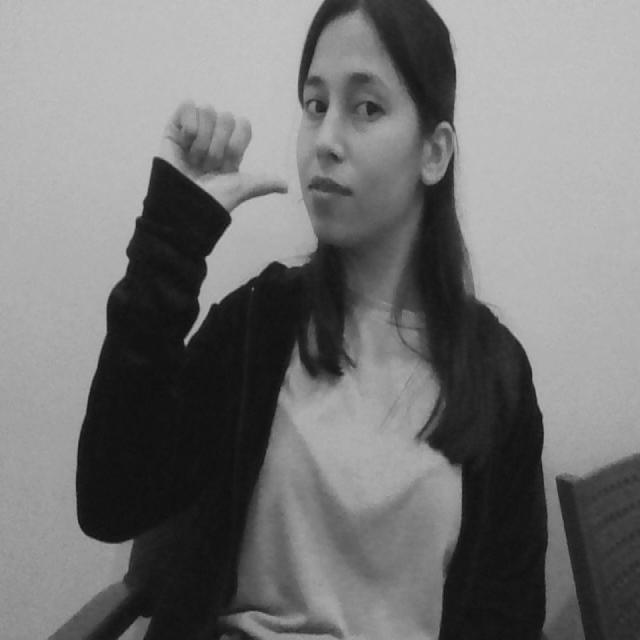icmek: (140, 91, 328, 230)
